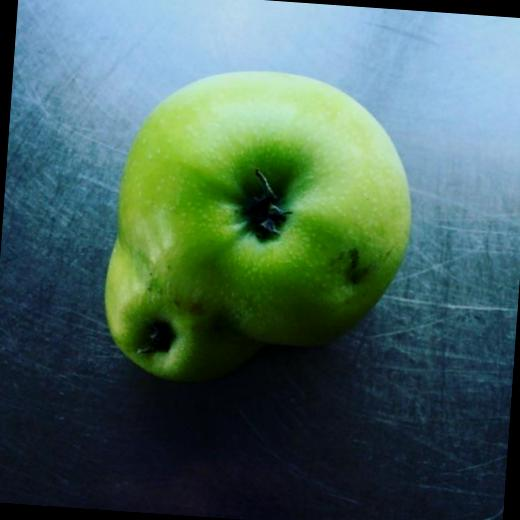Apple: (107, 62, 420, 352), (99, 249, 272, 386)
